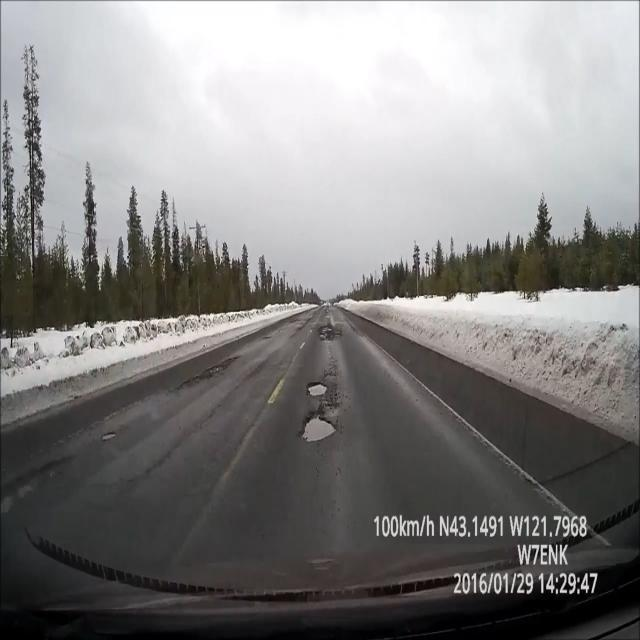Buraco: (1, 453, 77, 516), (172, 354, 244, 392), (297, 397, 344, 444), (315, 322, 346, 343), (302, 380, 332, 397), (98, 430, 119, 442)
